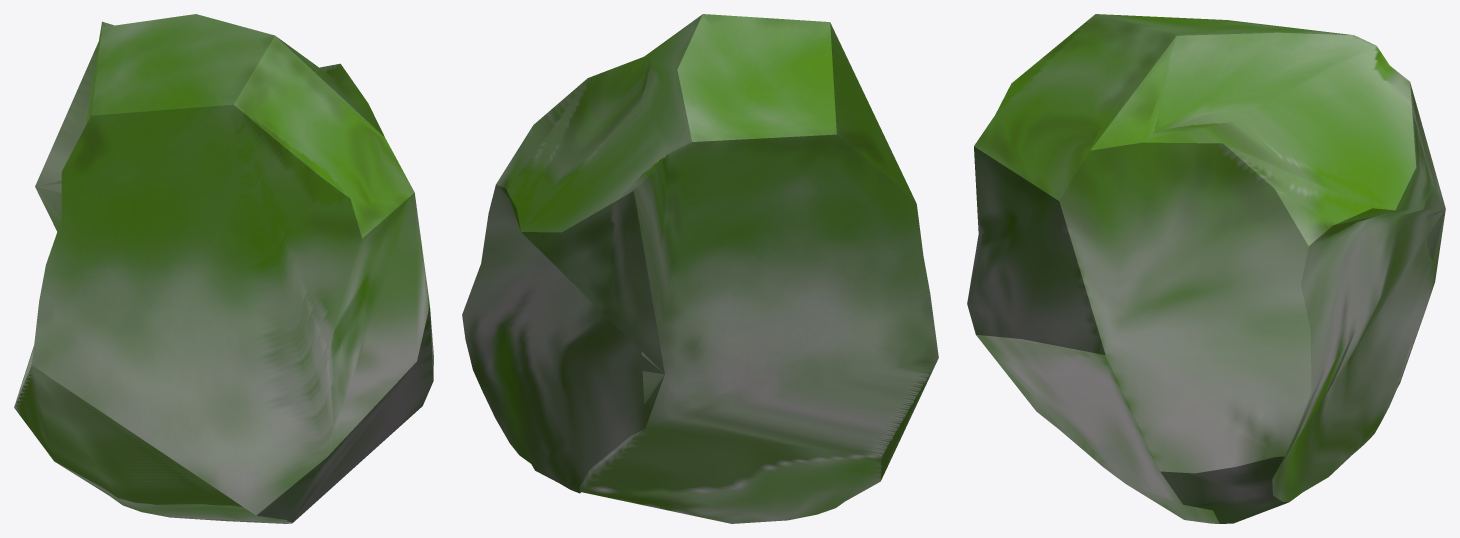
Rendered from Rock1.fbx.
The picture shows the model from 3 angles, left to right: view 1: azimuth 30°, elevation 25°; view 2: azimuth 150°, elevation 25°; view 3: azimuth 270°, elevation 25°; orthographic projection. The views are drawn at different scales.
Parts seen in each view (by area): view 1: ลูกบาศก์; view 2: ลูกบาศก์; view 3: ลูกบาศก์.
Boxes of the visible parts, x1,y1,x2,y2 form: ลูกบาศก์: (14,14,433,523); ลูกบาศก์: (462,14,938,523); ลูกบาศก์: (967,14,1445,523).
Bounding box in the file's own units: 276 × 311 × 286.
Materials: 1 (1 with a texture image).
